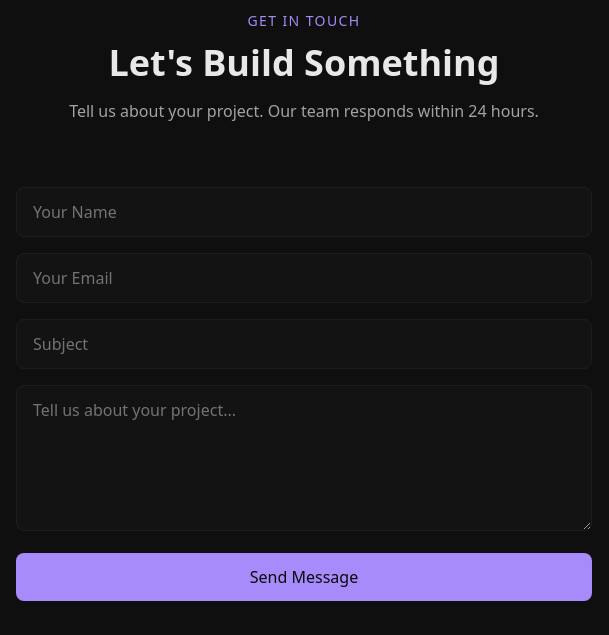
Test case: Contact Component › shows validation error for invalid email
Type "Test User" into the field with placeholder "Your Name" at x=304, y=212, box [16,187,592,237]
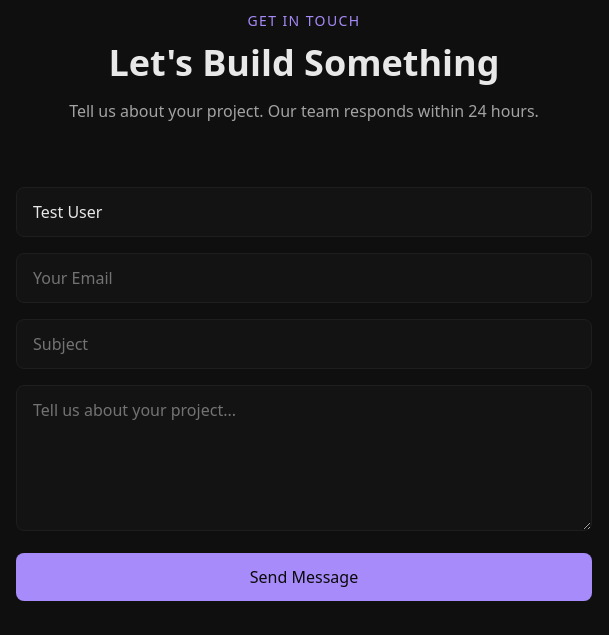
Type "invalid-email" into the field with placeholder "Your Email" at x=304, y=278, box [16,253,592,303]
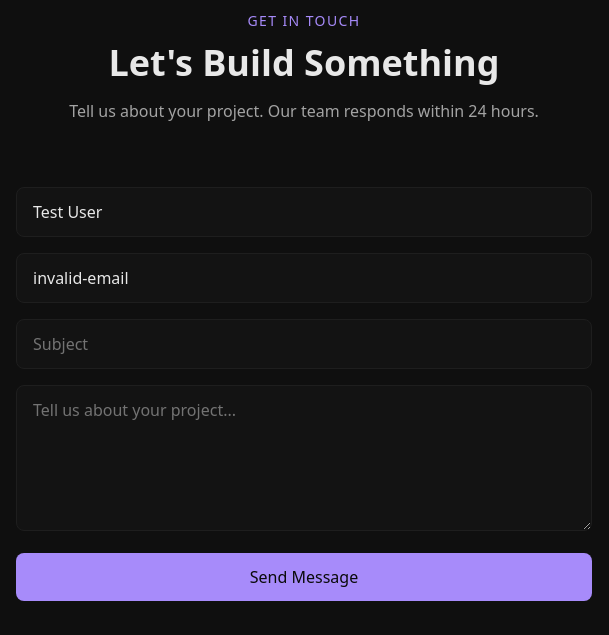
Type "Test Subject" into the field with placeholder "Subject" at x=304, y=344, box [16,319,592,369]
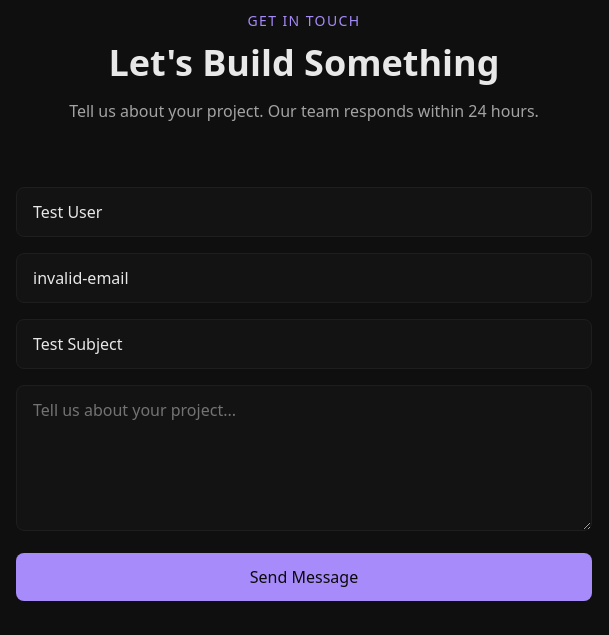
Type "This is a test message" into the text box with placeholder "Tell us about your project..." at x=304, y=458, box [16,385,592,531]
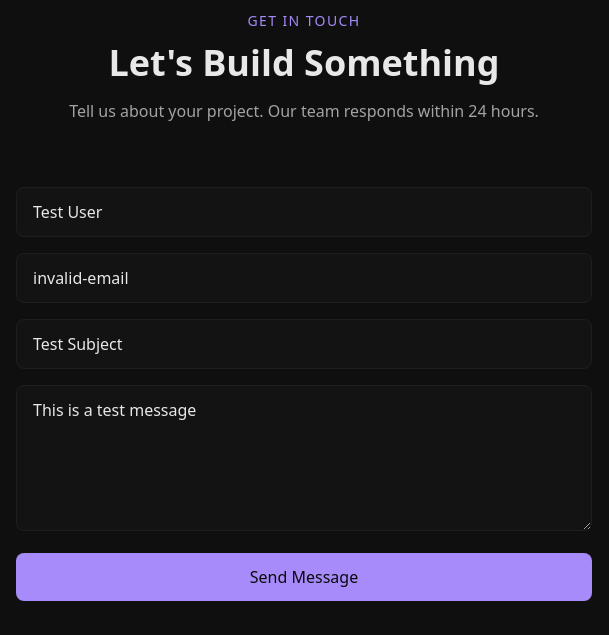
Click the button "Send Message" at x=304, y=577, box [16,553,592,601]
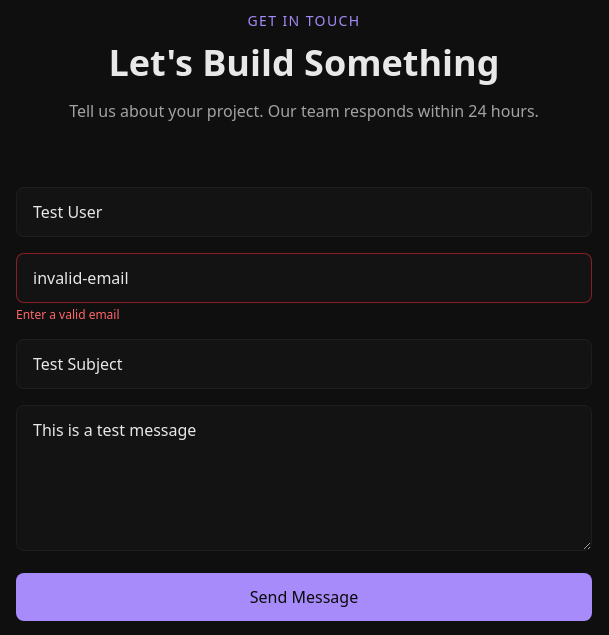
Expected: the text "Enter a valid email" is shown, [16,306,120,323]
